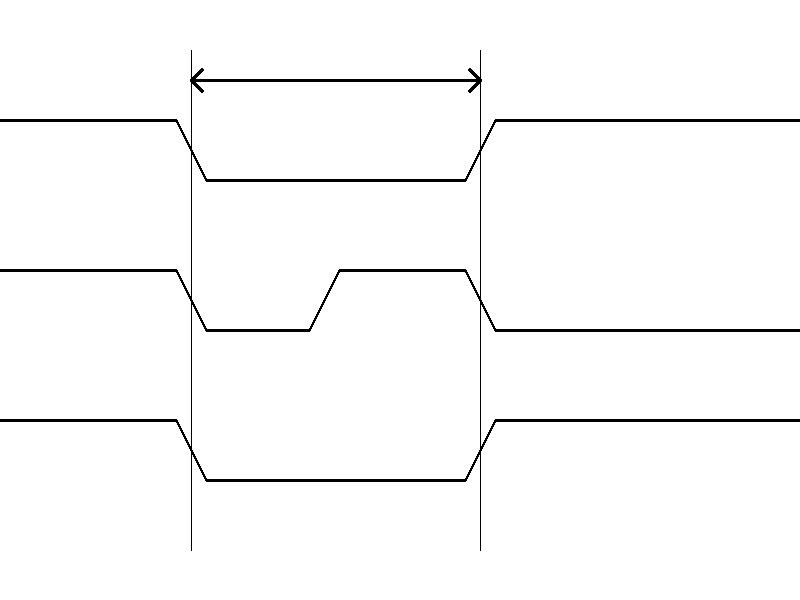double_arrow: (191, 65, 480, 95)
